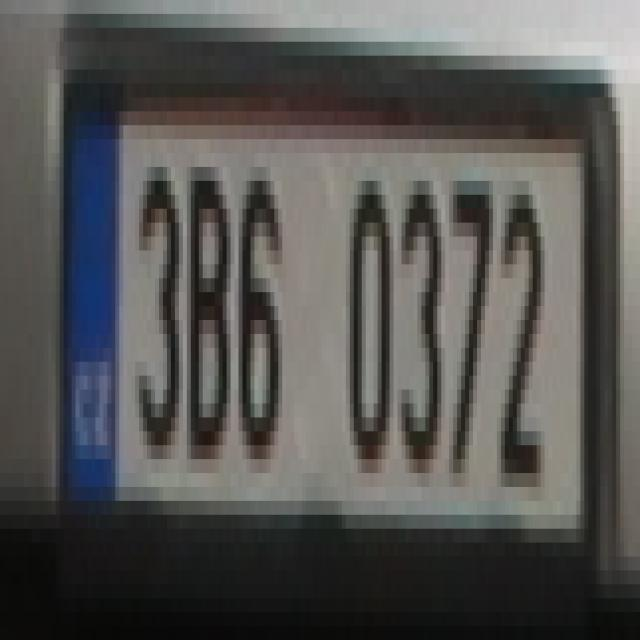0: (346, 181, 390, 473)
2: (493, 195, 545, 487)
3: (131, 153, 179, 445), (402, 166, 445, 432)
6: (238, 153, 286, 445)
7: (450, 153, 492, 445)
B: (187, 153, 234, 459)
